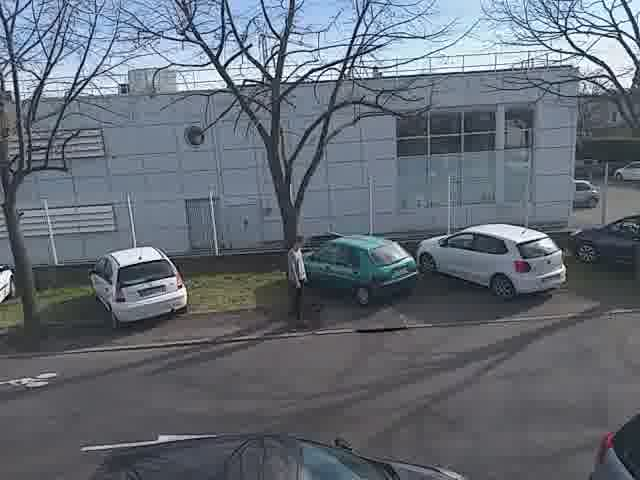persona: (280, 229, 315, 334)
